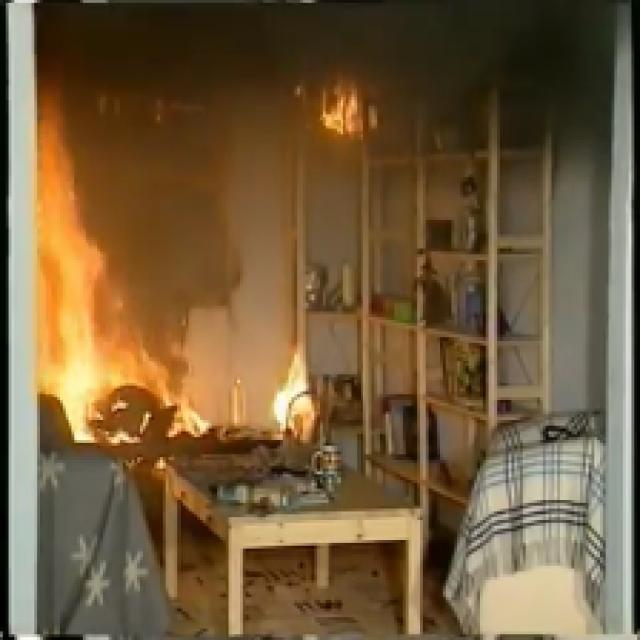Fire: (40, 108, 89, 406), (91, 303, 147, 423), (322, 81, 380, 135)
Smoke: (109, 16, 308, 300)
